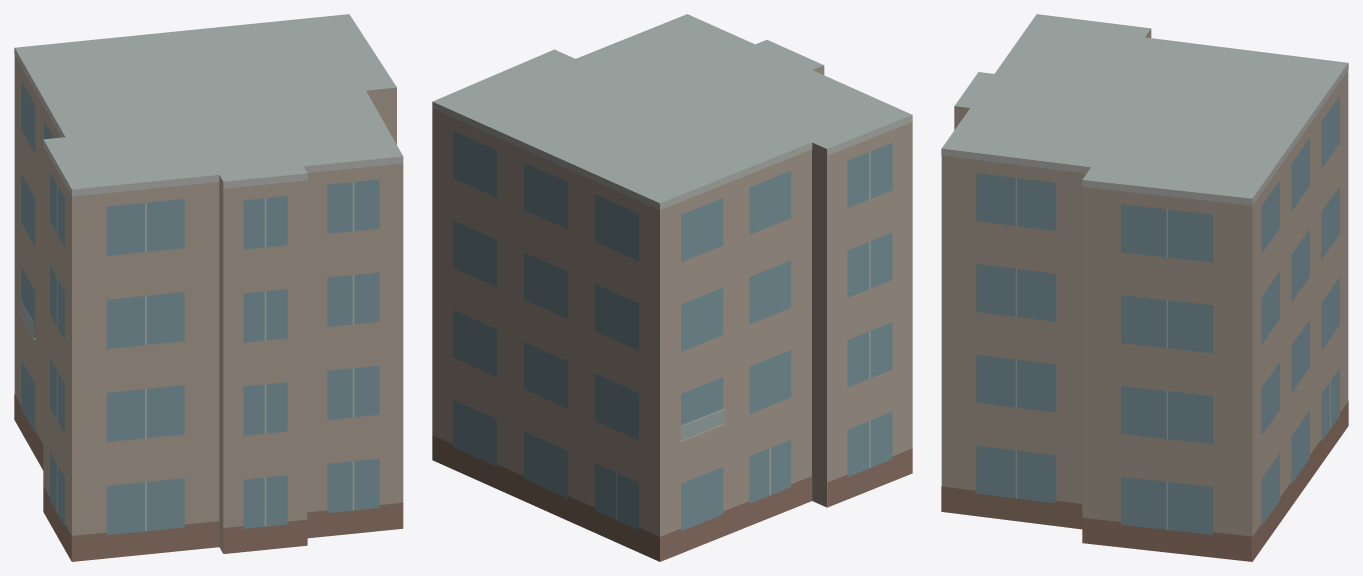
The model's file is survey-upis-33033933.glb.
3 views of the same model, side by side, from view 1: azimuth 30°, elevation 25°; view 2: azimuth 150°, elevation 25°; view 3: azimuth 270°, elevation 25° (orthographic). The views are drawn at different scales.
Parts seen in each view (by area): view 1: survey-upis-33033933.tmp; view 2: survey-upis-33033933.tmp; view 3: survey-upis-33033933.tmp.
Boxes of the visible parts, <box> form: survey-upis-33033933.tmp: <box>14,14,403,561</box>; survey-upis-33033933.tmp: <box>432,14,912,561</box>; survey-upis-33033933.tmp: <box>941,14,1348,561</box>.
Bounding box in the file's own units: 13.97 × 12.8 × 13.01.
